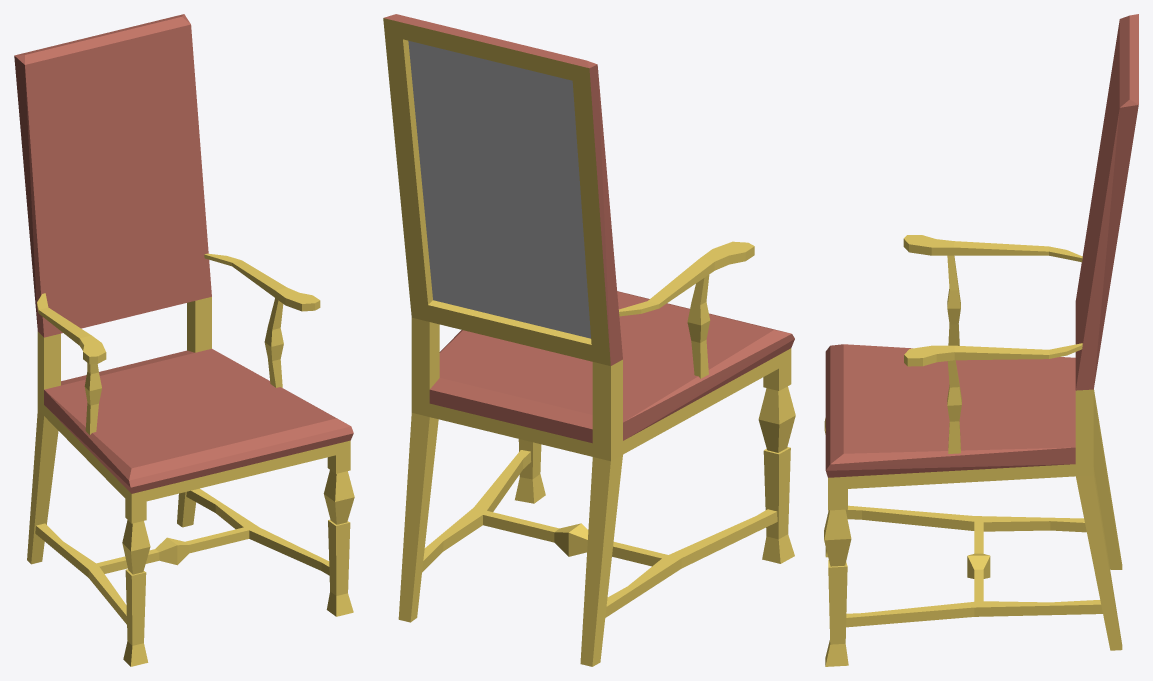
The model's file is sweethome3d-contributions-armchair-365.glb.
3 views of the same model, side by side, from view 1: azimuth 30°, elevation 25°; view 2: azimuth 150°, elevation 25°; view 3: azimuth 270°, elevation 25° (orthographic). The views are drawn at different scales.
Visible parts, largest first — view 1: 3_3, 6_6, 2_2, 13_13, 1_1, 5_5, 4_4, 7_7; view 2: 2_2, 9_9, 6_6, 13_13, 3_3, 5_5, 10_10, 7_7, 1_1; view 3: 6_6, 2_2, 3_3, 13_13, 1_1, 4_4.
Boxes of the visible parts, x1,y1,x2,y2 form: 3_3: (14, 14, 211, 337); 6_6: (44, 349, 353, 493); 2_2: (27, 253, 350, 564); 13_13: (35, 488, 329, 624); 1_1: (326, 519, 353, 616); 5_5: (123, 569, 148, 666); 4_4: (323, 470, 354, 524); 7_7: (122, 520, 150, 574); 2_2: (383, 18, 791, 666); 9_9: (408, 40, 590, 338); 6_6: (429, 291, 794, 443); 13_13: (422, 450, 777, 617); 3_3: (384, 14, 622, 365); 5_5: (762, 447, 794, 563); 10_10: (403, 39, 591, 344); 7_7: (758, 386, 795, 452); 1_1: (515, 439, 545, 503); 6_6: (825, 344, 1075, 477); 2_2: (828, 235, 1122, 650); 3_3: (1075, 14, 1138, 390); 13_13: (845, 505, 1102, 627); 1_1: (825, 560, 848, 666); 4_4: (824, 509, 851, 566).
Size of the model in its own units: 65 by 135 by 70.
